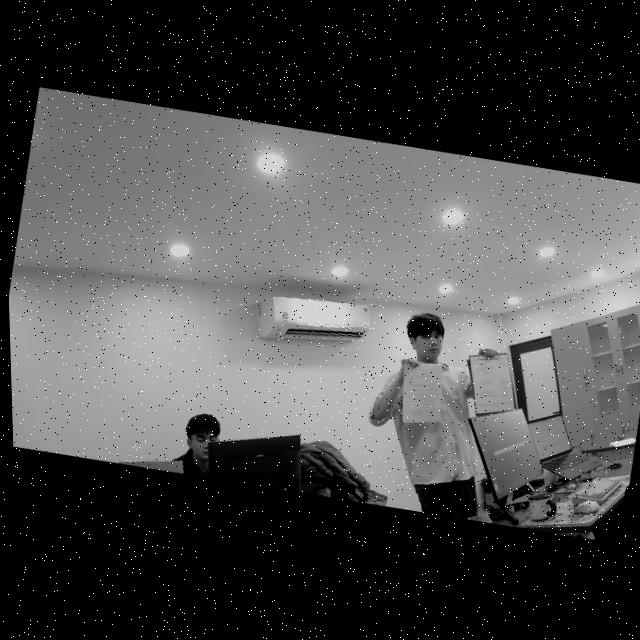document: (470, 354, 514, 413), (401, 362, 442, 422)
face: (185, 425, 219, 463), (412, 324, 445, 363)
